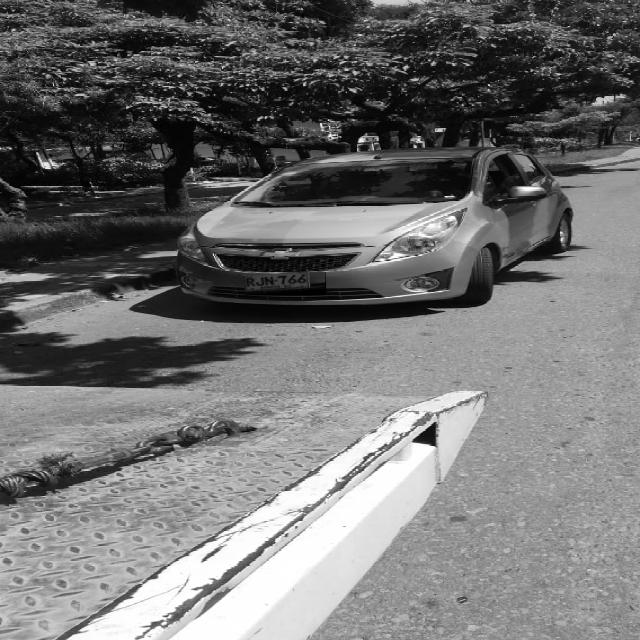plate: (243, 272, 326, 295)
